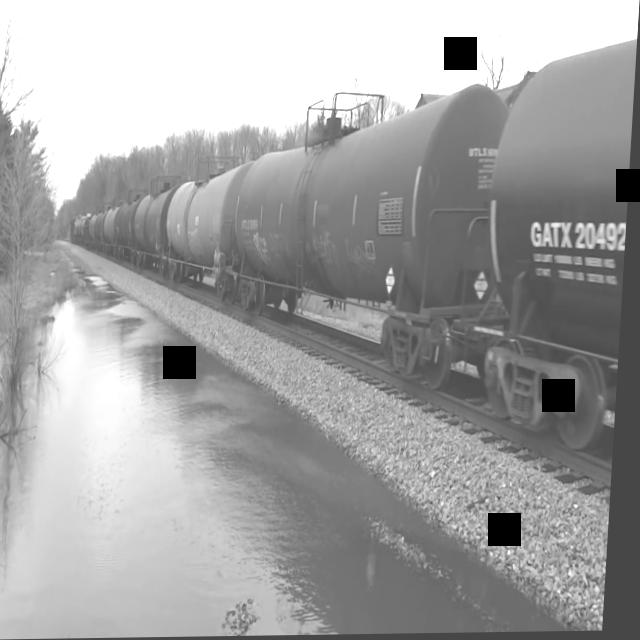tank: (230, 73, 527, 401), (461, 0, 640, 487), (164, 150, 254, 299)
